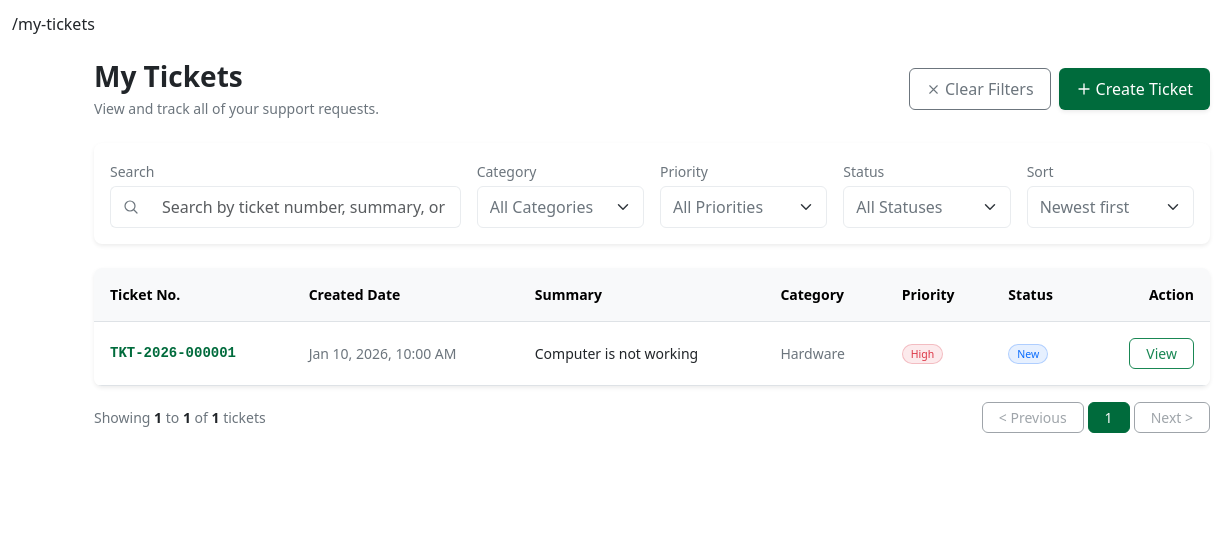
Test: MyTickets - Lab 2 UI Tests › shows no-results state when a filter returns no tickets
Expected: the text "TKT-2026-000001" is shown, left=94, top=321, right=293, bottom=385
Select "Hardware" in the 1st dropdown at (560, 207), box left=477, top=186, right=644, bottom=228
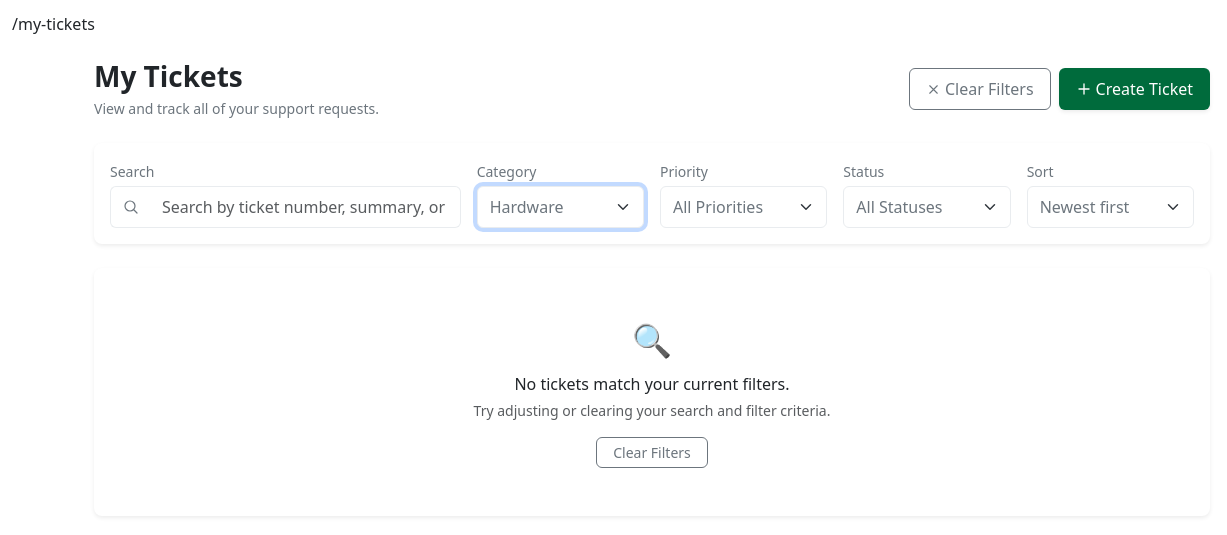
Expected: the text "No tickets match your current filters." is shown, left=514, top=373, right=790, bottom=395
Expected: the text "Try adjusting or clearing your search and filter criteria." is shown, left=474, top=401, right=830, bottom=420
